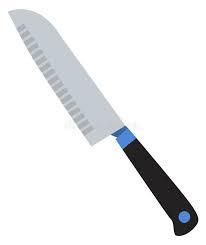Knife: (7, 7, 198, 236)
